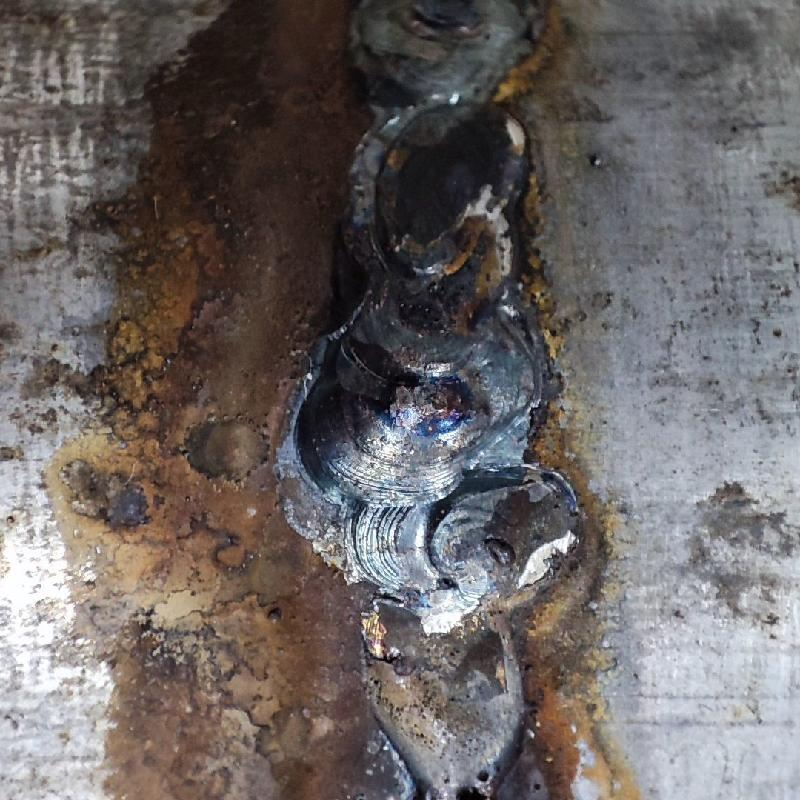Not_fully_soldered: (322, 504, 535, 799)
wrong_size: (278, 0, 548, 503)
